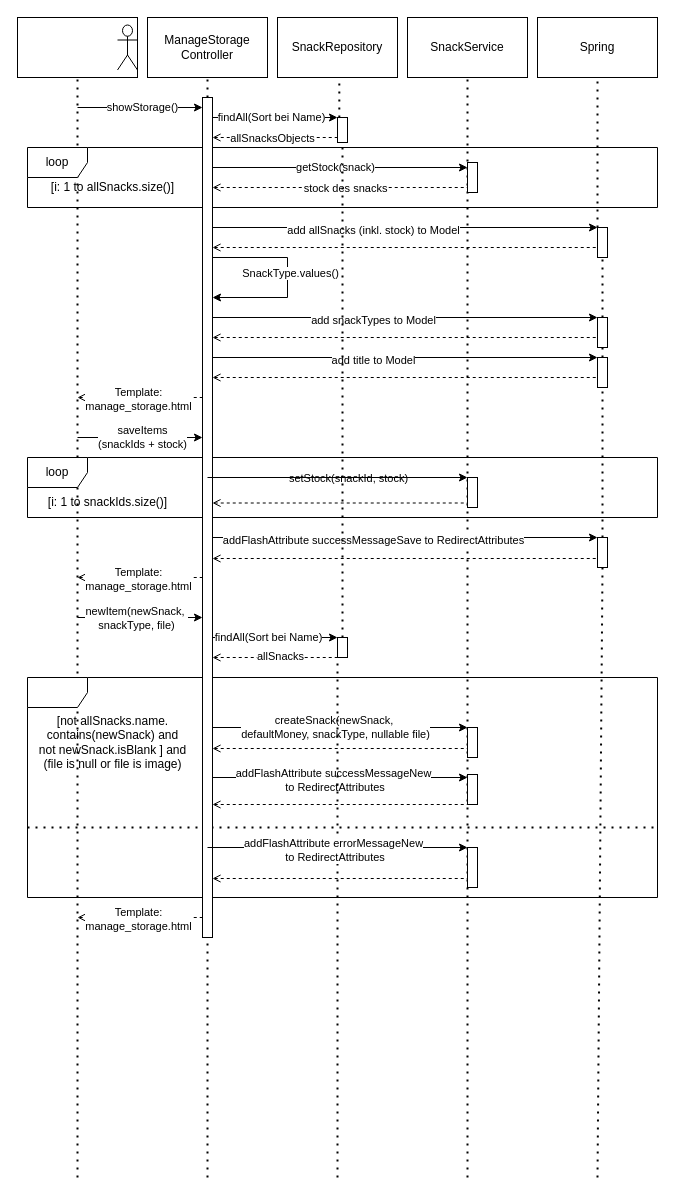
This 677x1197 diagram has some shape labels left out. Each missing label, with the box of its shape:
alt: (26, 676, 658, 898)
Authorized Worker: (16, 16, 138, 78)
